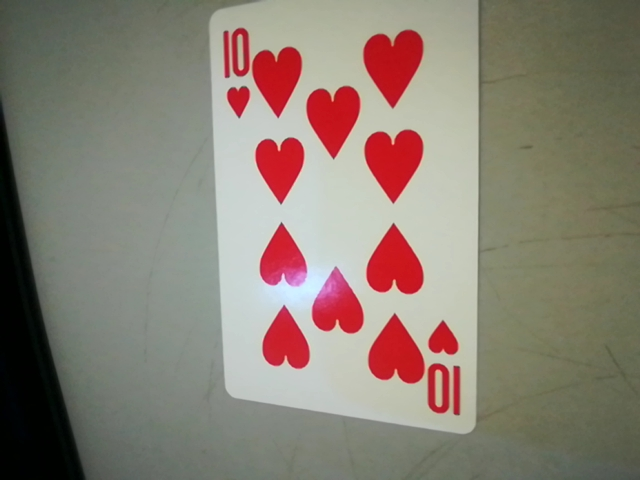hx 10: (425, 319, 476, 424)
